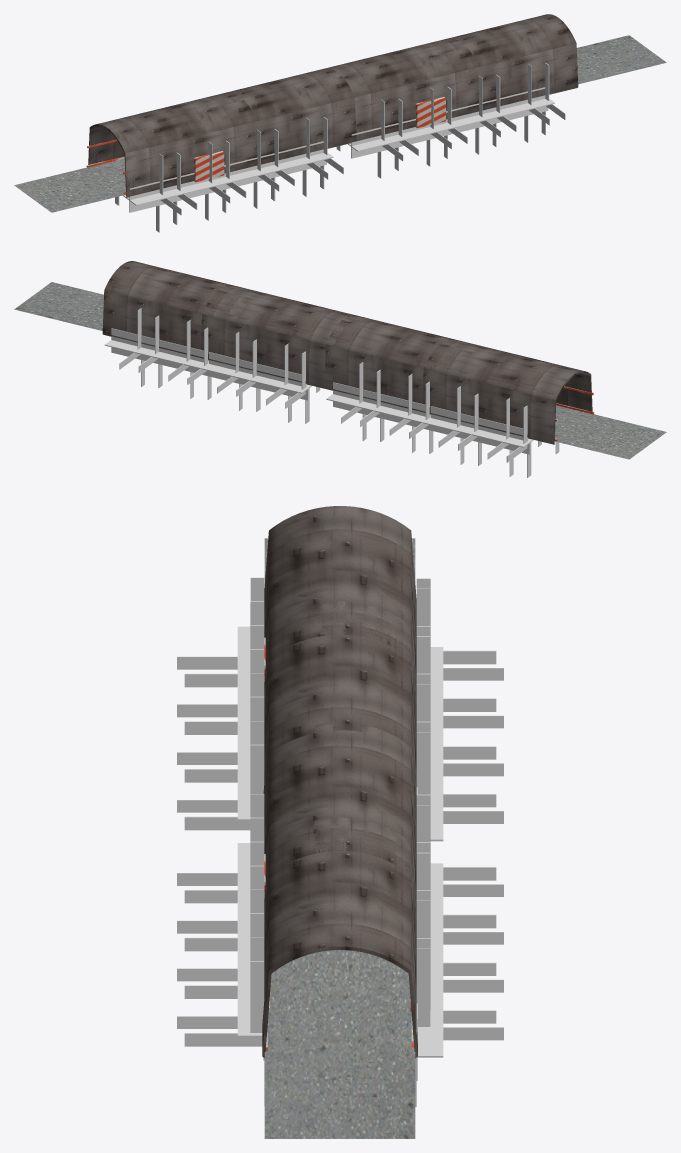
Rendered from tunnel.FBX.
The picture shows the model from 3 angles, top to bottom: view 1: azimuth 30°, elevation 25°; view 2: azimuth 150°, elevation 25°; view 3: azimuth 270°, elevation 25°; orthographic projection. The views are drawn at different scales.
Parts seen in each view (by area): view 1: mbulesa, mbulesa02, mbulesa01, mbulesa03, rruga, trare05, trare, trare01, trare04, rruga02; view 2: mbulesa, mbulesa02, mbulesa01, mbulesa03, trare02, trare06, trare03, trare07, rruga, rruga02; view 3: rruga02, mbulesa, mbulesa02, mbulesa03, mbulesa01, trare07, trare05, trare01, trare03, trare, trare02, trare04 (+1 smaller).
Part boxes in pixels (x1,y1,x2,y2): mbulesa: (88,92,257,197); mbulesa02: (318,38,479,140); mbulesa01: (195,68,356,164); mbulesa03: (416,14,578,110); rruga: (14,158,125,212); trare05: (449,63,565,154); trare: (123,140,246,232); trare01: (227,117,343,208); trare04: (348,86,467,178); rruga02: (577,35,666,84); mbulesa: (422,339,592,444); mbulesa02: (200,285,356,390); mbulesa01: (325,315,480,420); mbulesa03: (102,261,258,365); trare02: (424,386,533,477); trare06: (203,332,312,423); trare03: (326,362,433,453); trare07: (104,308,211,399); rruga: (555,405,666,459); rruga02: (14,282,103,330); rruga02: (264,950,415,1138); mbulesa: (264,506,416,726); mbulesa02: (264,722,416,942); mbulesa03: (262,817,417,1058); mbulesa01: (263,601,416,822); trare07: (415,890,503,1106); trare05: (177,889,264,1105); trare01: (177,673,264,830); trare03: (416,673,503,841); trare: (177,577,264,734); trare02: (416,578,503,743); trare04: (177,794,264,951).
Bounding box in the file's own units: 1762 × 270 × 405.
